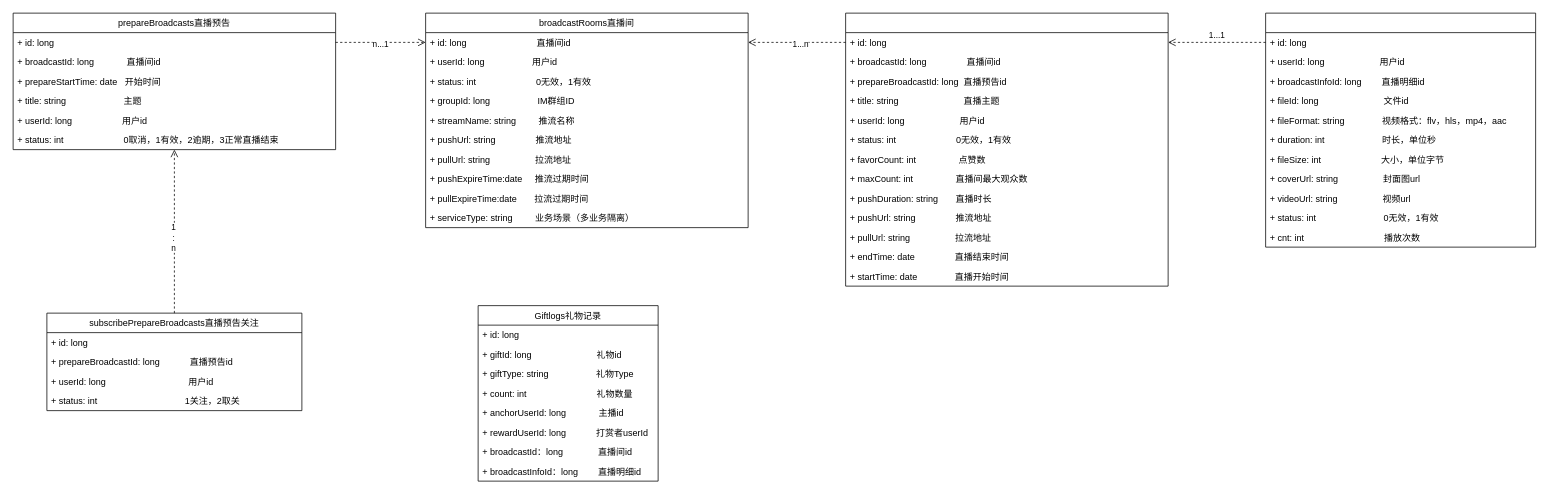
This 1549x497 diagram has some shape labels left out. The box of each missing label's shape, as (x1, y1, x2, y2) in pixels:
broadcasts直播: (845, 12, 1168, 286)
broadcastVideos直播视频: (1265, 12, 1536, 247)
